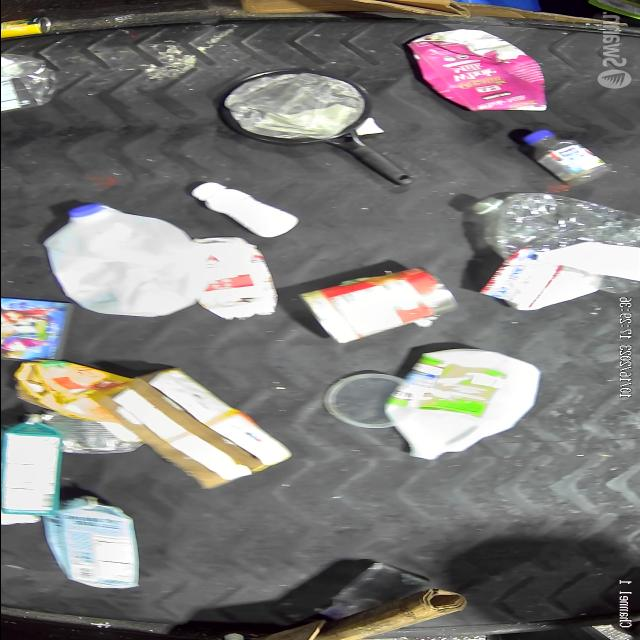can: (297, 267, 463, 341)
milk_jug: (39, 201, 202, 320), (386, 348, 544, 463)
plastic_bottle: (464, 192, 640, 290)
